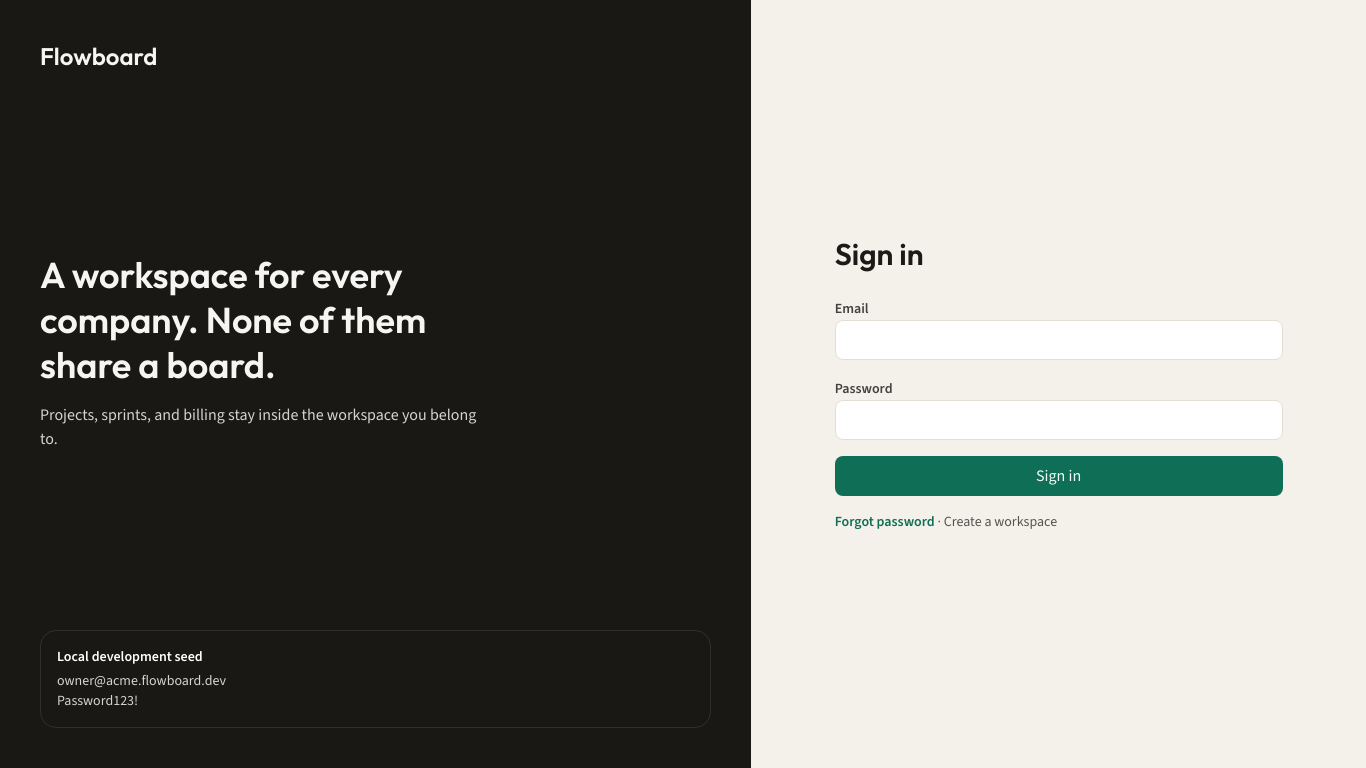
Test: LoginPage › shows validation when the form is empty
Click the button "Sign in": (1059, 476) [835,456,1283,496]
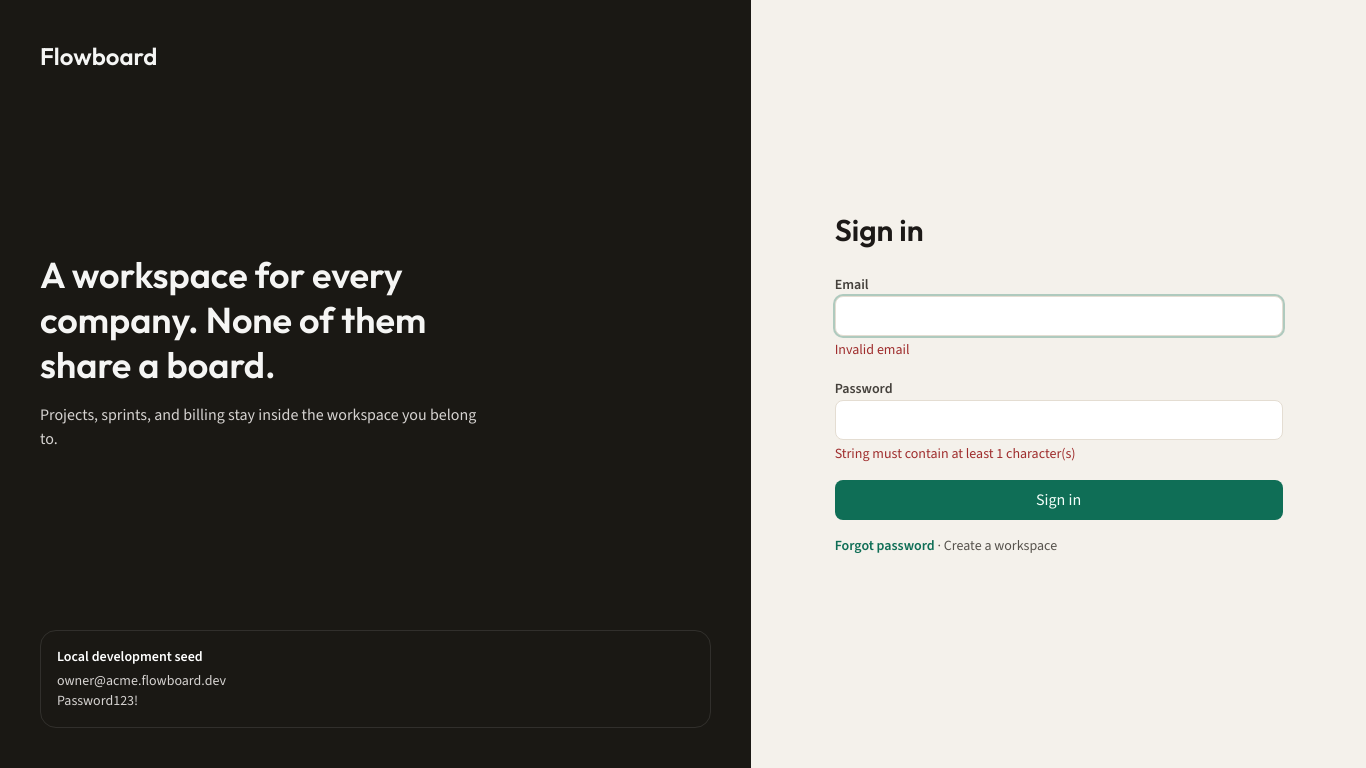
expect the text "Invalid email" is shown: met, box [835,340,910,359]
